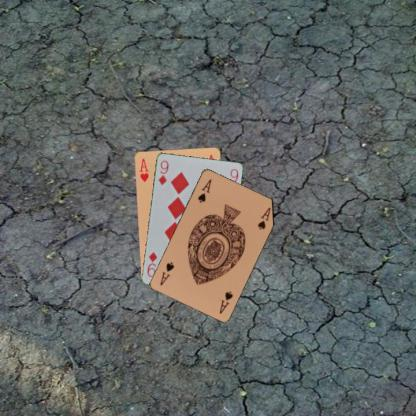9d: (155, 158, 170, 186)
Ah: (136, 156, 150, 183)
As: (195, 176, 213, 204), (217, 288, 234, 315)
